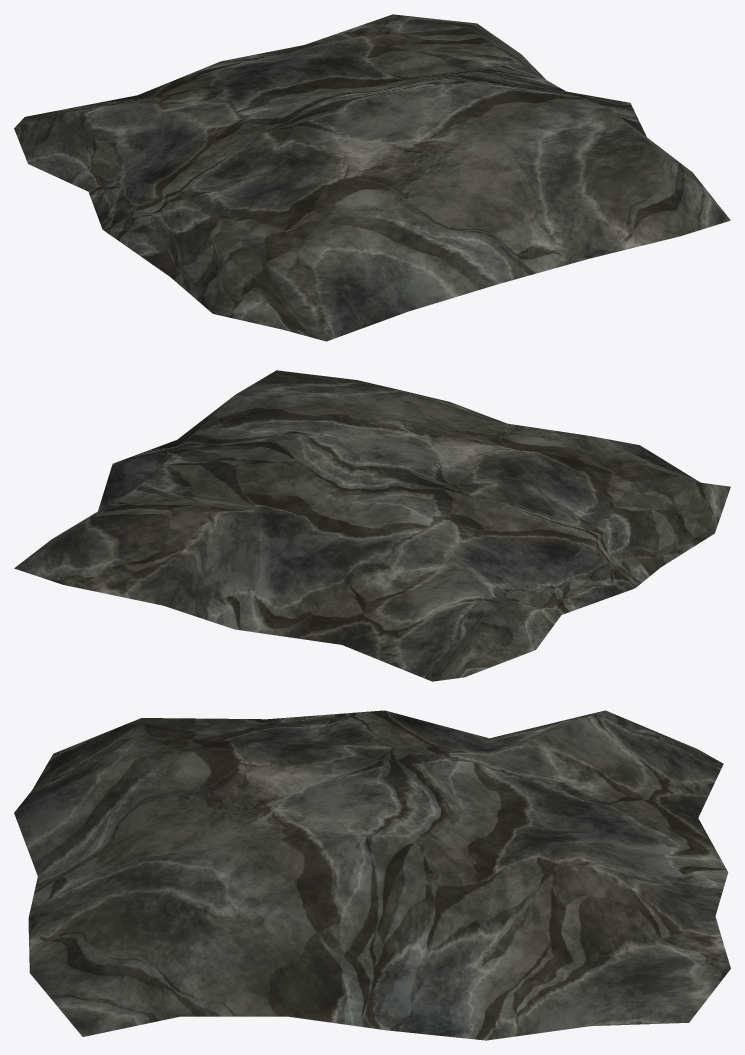
Rendered from Wall4x4.fbx.
The picture shows the model from 3 angles, top to bottom: view 1: azimuth 30°, elevation 25°; view 2: azimuth 150°, elevation 25°; view 3: azimuth 270°, elevation 25°; orthographic projection. The views are drawn at different scales.
Parts seen in each view (by area): view 1: Wall4x5; view 2: Wall4x5; view 3: Wall4x5.
Part boxes in pixels (bbox=[...]): Wall4x5: bbox=[14, 14, 730, 341]; Wall4x5: bbox=[14, 370, 730, 681]; Wall4x5: bbox=[14, 710, 730, 1040].
Bounding box in the file's own units: 4.94 × 0.8168 × 4.85.
